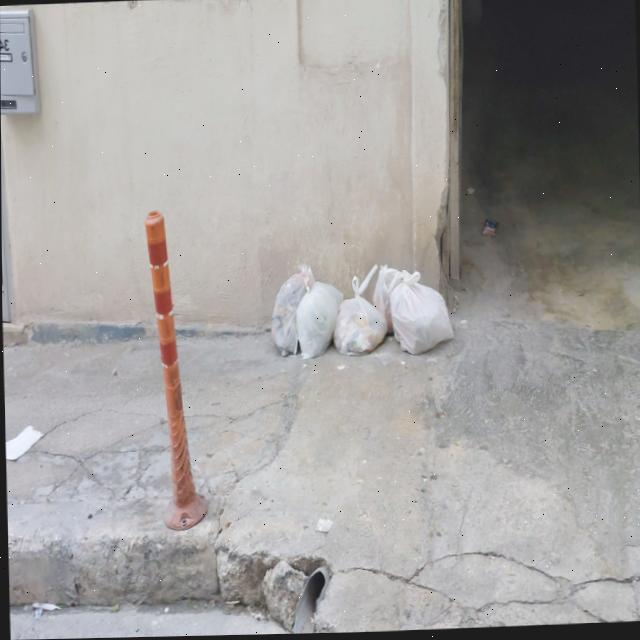Organic Waste -White Bag-: (390, 271, 455, 359), (332, 266, 388, 360), (270, 265, 317, 359), (296, 282, 345, 362), (372, 267, 402, 339)
